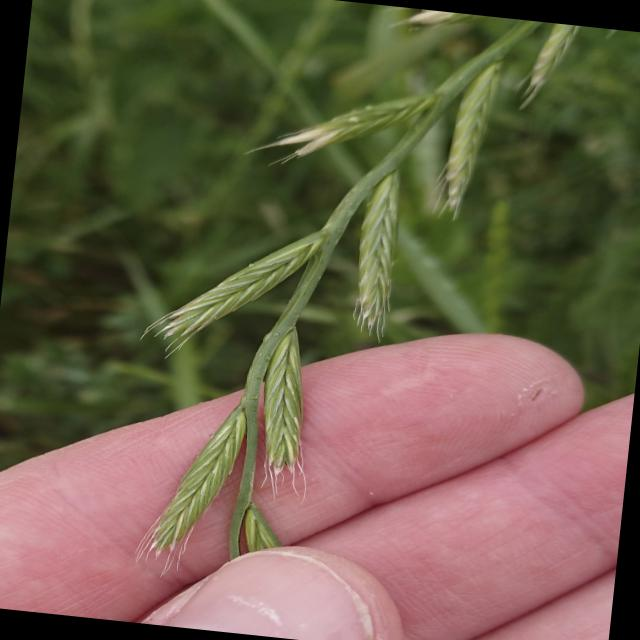Lolium: (113, 0, 589, 613)
